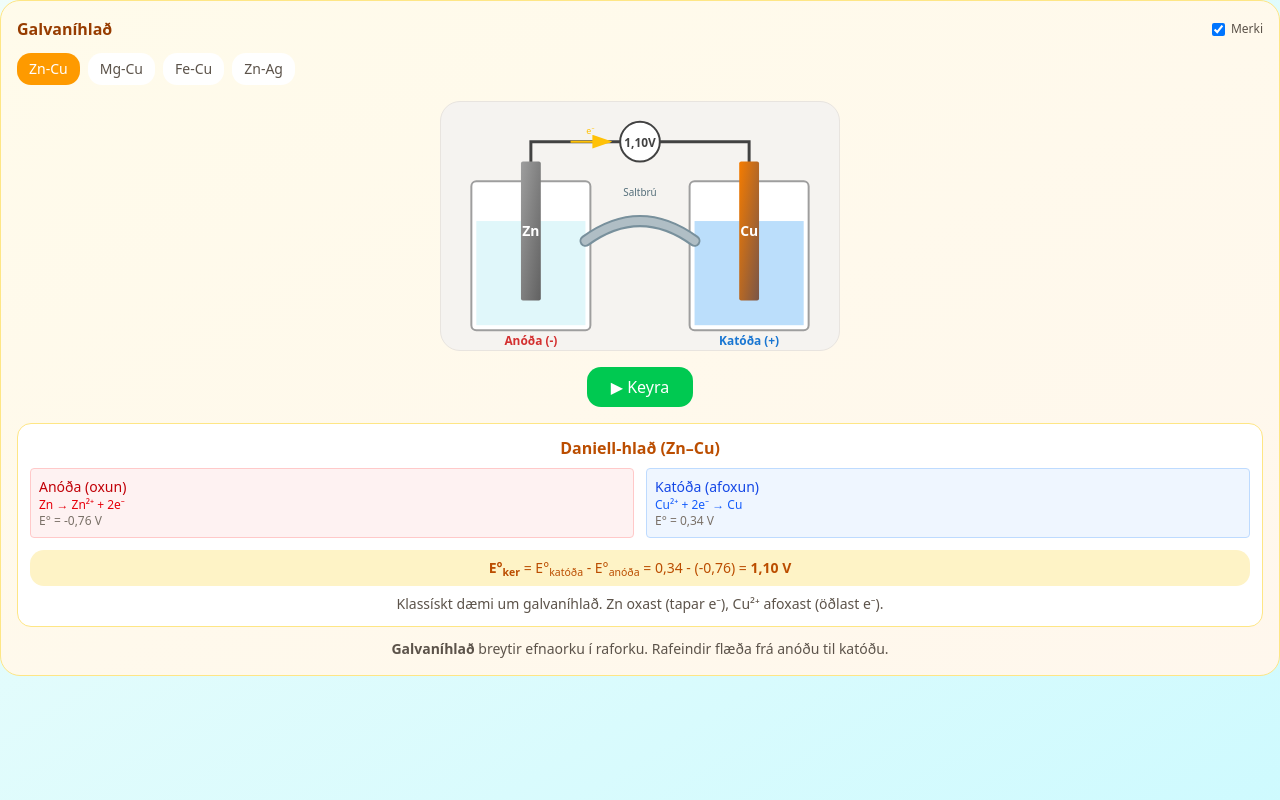
galvanic-cell half-equations › gives silver one electron, not the two the panel hardcoded
Click the button "Zn-Ag" at {"x": 264, "y": 69}, box [232,53,295,85]
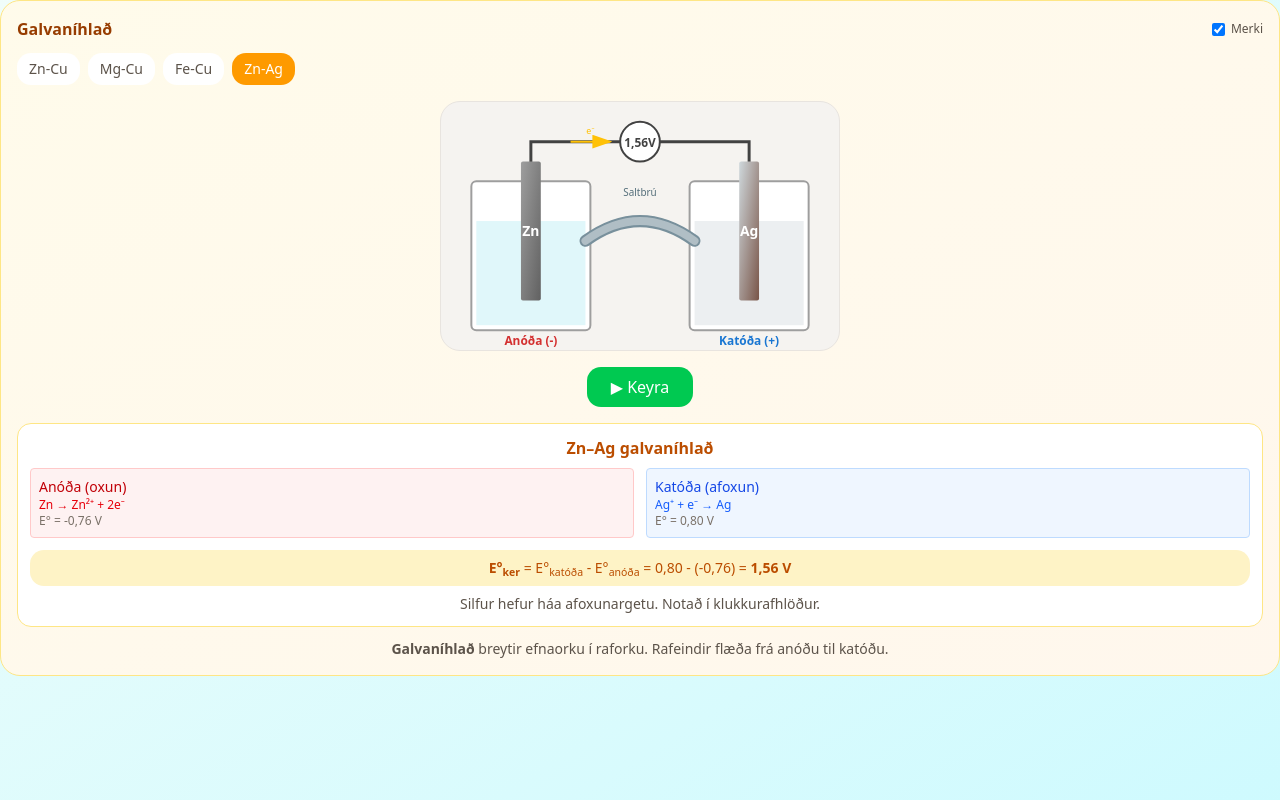
Check: the text "Zn → Zn²⁺ + 2e⁻" is shown, box [440,101,840,351]
Check: the text "Ag⁺ + e⁻ → Ag" is shown, box [440,101,840,351]
